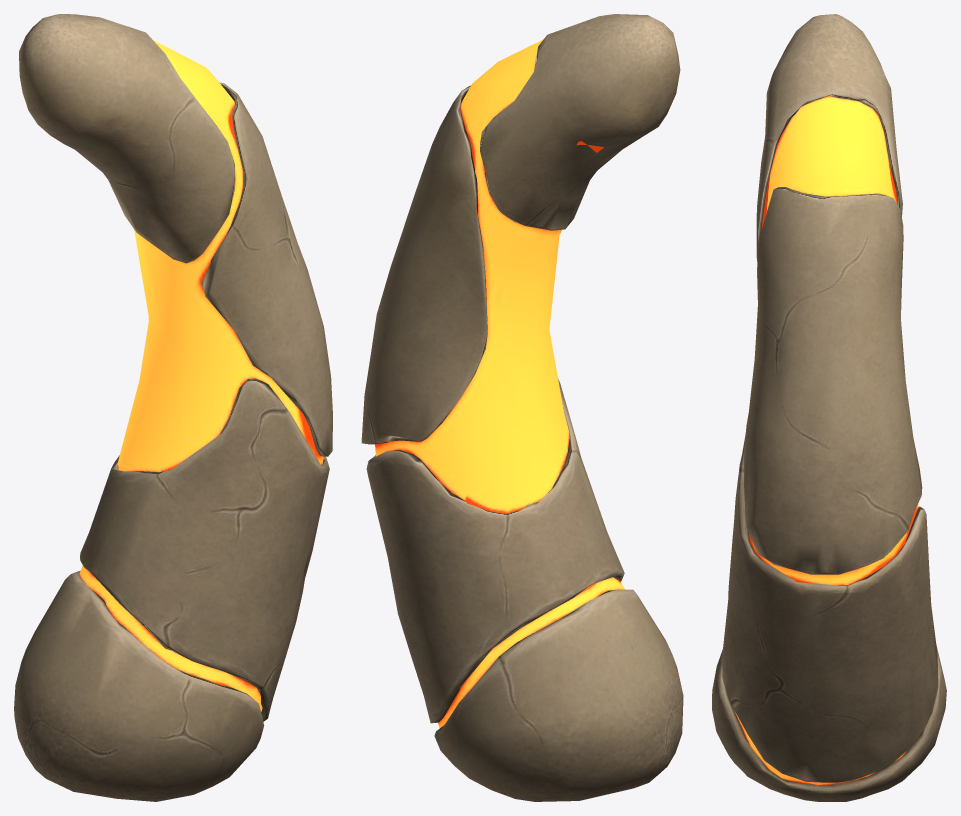
3 renders of one model, left to right at view 1: azimuth 30°, elevation 25°; view 2: azimuth 150°, elevation 25°; view 3: azimuth 270°, elevation 25°, orthographic. The views are drawn at different scales.
Parts seen in each view (by area): view 1: tb_bone_01e; view 2: tb_bone_01e; view 3: tb_bone_01e.
Boxes of the visible parts, <box> form: tb_bone_01e: <box>14,14,332,801</box>; tb_bone_01e: <box>361,14,683,801</box>; tb_bone_01e: <box>712,14,946,801</box>.
Size of the model in its own units: 4.03 by 10.24 by 2.99.
Materials: 1 (1 with a texture image).
